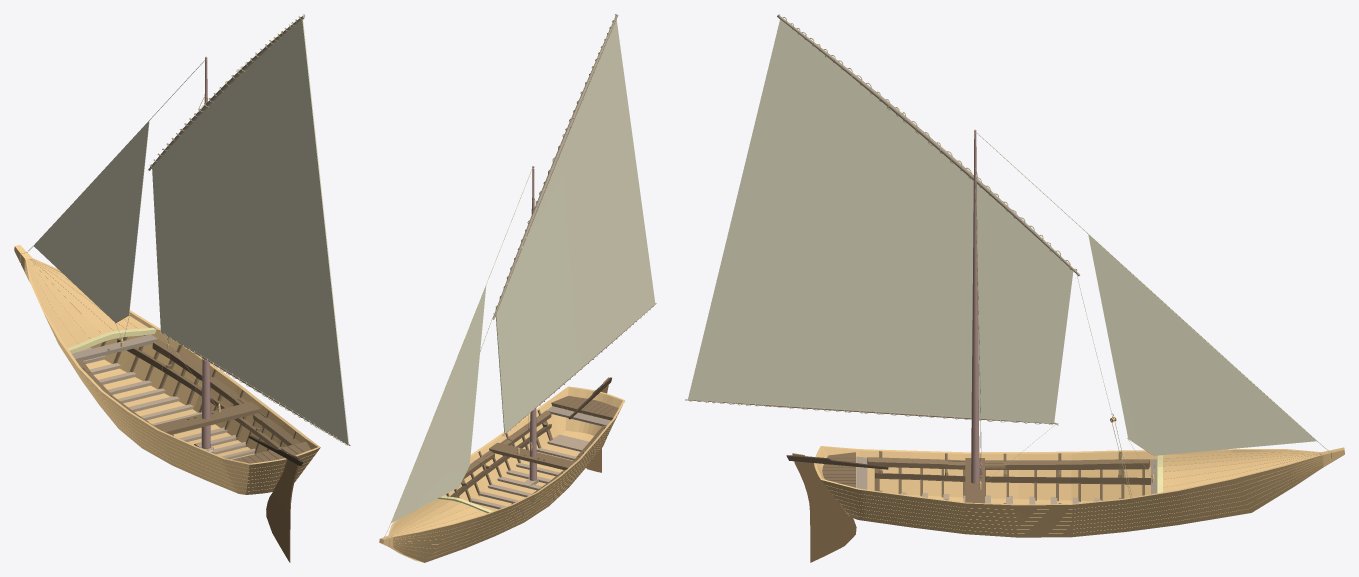
The model's file is SANPIEROTA.fbx.
3 views of the same model, side by side, from view 1: azimuth 30°, elevation 25°; view 2: azimuth 150°, elevation 25°; view 3: azimuth 270°, elevation 25° (orthographic). The views are drawn at different scales.
Parts seen in each view (by area): view 1: Sail51, Hull2, Small_sail, Front_Deck, Rudder, Front (×2), Middle, Stringer_upper_Front_R1, Right, Mast2, Top_Mast, Back_Hull (+1 smaller); view 2: Sail51, Hull2, Small_sail, Front_Deck, Top_Mast, Middle, Back_Hull, Mast2, Right, Back1, Beams15, Stringer_upper_Back_R1 (+2 smaller); view 3: Sail51, Hull2, Small_sail, Front_Deck, Rudder, Mast2, Left, Stringer_upper_Front_L1, Top_Mast, Stringer_upper_Back_L1, Back_Hull.
Boxes of the visible parts, x1=… form: Sail51: x1=152, y1=19, x2=348, y2=444; Hull2: x1=14, y1=245, x2=320, y2=494; Small_sail: x1=34, y1=120, x2=149, y2=322; Front_Deck: x1=26, y1=258, x2=148, y2=347; Rudder: x1=266, y1=455, x2=299, y2=562; Front (×2): x1=68, y1=327, x2=157, y2=360; Middle: x1=153, y1=402, x2=260, y2=434; Stringer_upper_Front_R1: x1=152, y1=339, x2=248, y2=405; Right: x1=117, y1=339, x2=282, y2=448; Mast2: x1=201, y1=56, x2=210, y2=448; Top_Mast: x1=148, y1=15, x2=304, y2=170; Back_Hull: x1=232, y1=441, x2=310, y2=463; Sail51: x1=495, y1=20, x2=655, y2=433; Hull2: x1=379, y1=386, x2=625, y2=562; Small_sail: x1=391, y1=285, x2=486, y2=522; Front_Deck: x1=389, y1=499, x2=486, y2=536; Top_Mast: x1=492, y1=14, x2=618, y2=319; Middle: x1=489, y1=442, x2=575, y2=469; Back_Hull: x1=551, y1=396, x2=618, y2=420; Mast2: x1=529, y1=166, x2=536, y2=480; Right: x1=450, y1=424, x2=551, y2=497; Back1: x1=547, y1=406, x2=610, y2=426; Beams15: x1=547, y1=434, x2=589, y2=451; Stringer_upper_Back_R1: x1=500, y1=410, x2=551, y2=445; Sail51: x1=688, y1=19, x2=1073, y2=423; Hull2: x1=814, y1=446, x2=1344, y2=537; Small_sail: x1=1088, y1=234, x2=1316, y2=455; Front_Deck: x1=1163, y1=451, x2=1321, y2=492; Rudder: x1=792, y1=453, x2=856, y2=562; Mast2: x1=971, y1=129, x2=982, y2=483; Left: x1=875, y1=473, x2=1150, y2=484; Stringer_upper_Front_L1: x1=985, y1=459, x2=1150, y2=469; Top_Mast: x1=777, y1=14, x2=1079, y2=276; Stringer_upper_Back_L1: x1=867, y1=457, x2=965, y2=469; Back_Hull: x1=822, y1=452, x2=855, y2=487.
Size of the model in its own units: 14.82 by 70.81 by 77.34.
